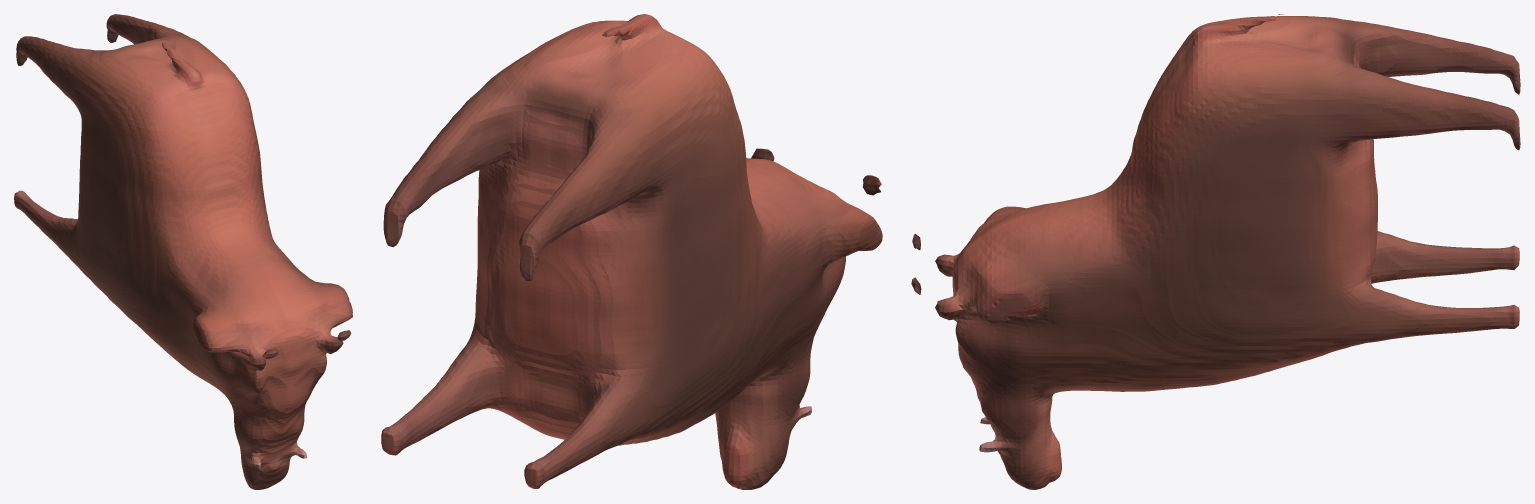
The model's file is a pig that looks like a giraffe.fbx.
The picture shows the model from 3 angles, left to right: view 1: azimuth 30°, elevation 25°; view 2: azimuth 150°, elevation 25°; view 3: azimuth 270°, elevation 25°; orthographic projection. The views are drawn at different scales.
Visible parts, largest first — view 1: a pig that looks like a giraffe_3; view 2: a pig that looks like a giraffe_3; view 3: a pig that looks like a giraffe_3.
Boxes of the visible parts, bbox=[...] form: a pig that looks like a giraffe_3: bbox=[14, 14, 352, 489]; a pig that looks like a giraffe_3: bbox=[381, 14, 882, 489]; a pig that looks like a giraffe_3: bbox=[911, 14, 1520, 489].
Bounding box in the file's own units: 68.9 × 169 × 197.
